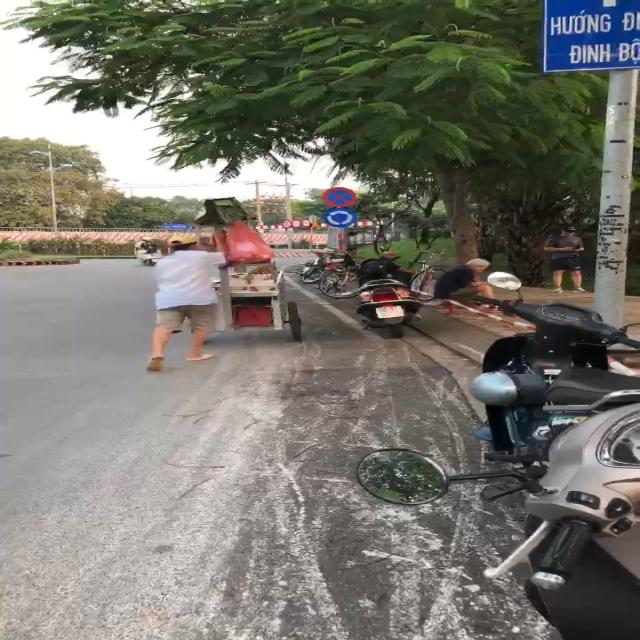Bien bao cam dung xe va do xe: (316, 185, 361, 207)
Bien bao noi giao nhau chay theo vong xuyen: (320, 207, 359, 232)
